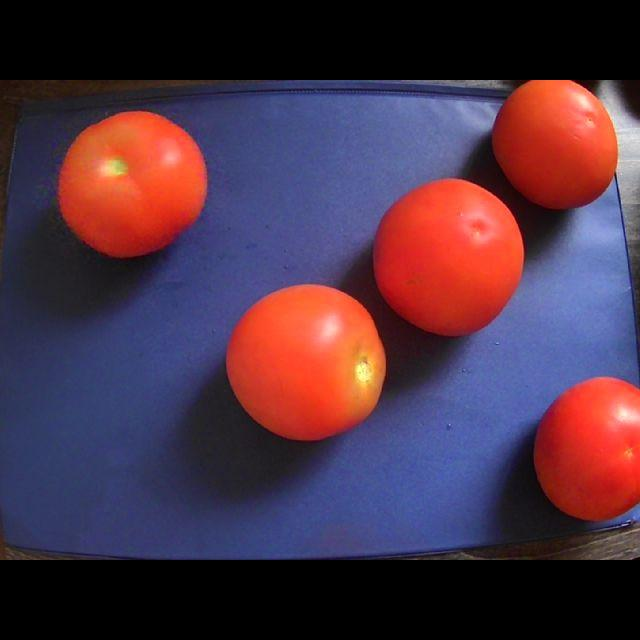tomate: (226, 284, 384, 439), (374, 179, 523, 335), (59, 111, 206, 257), (492, 80, 617, 209), (533, 377, 639, 520)
